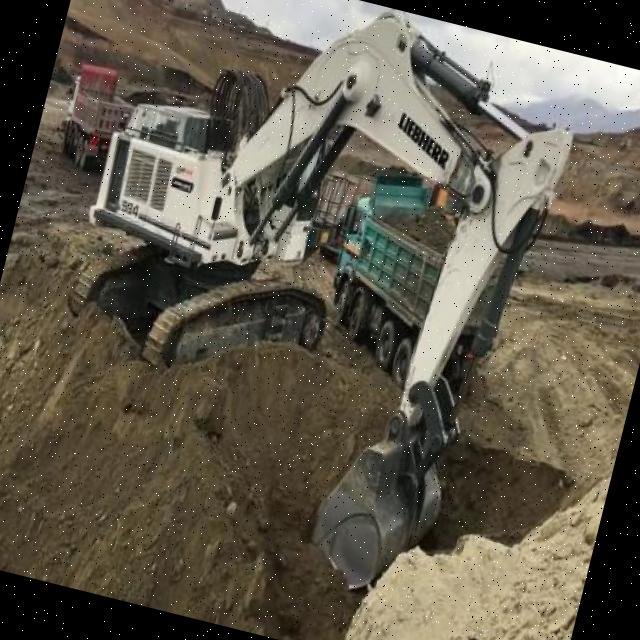Dump Truck: (308, 167, 504, 398), (52, 56, 145, 179)
Excavator: (2, 0, 593, 623)
